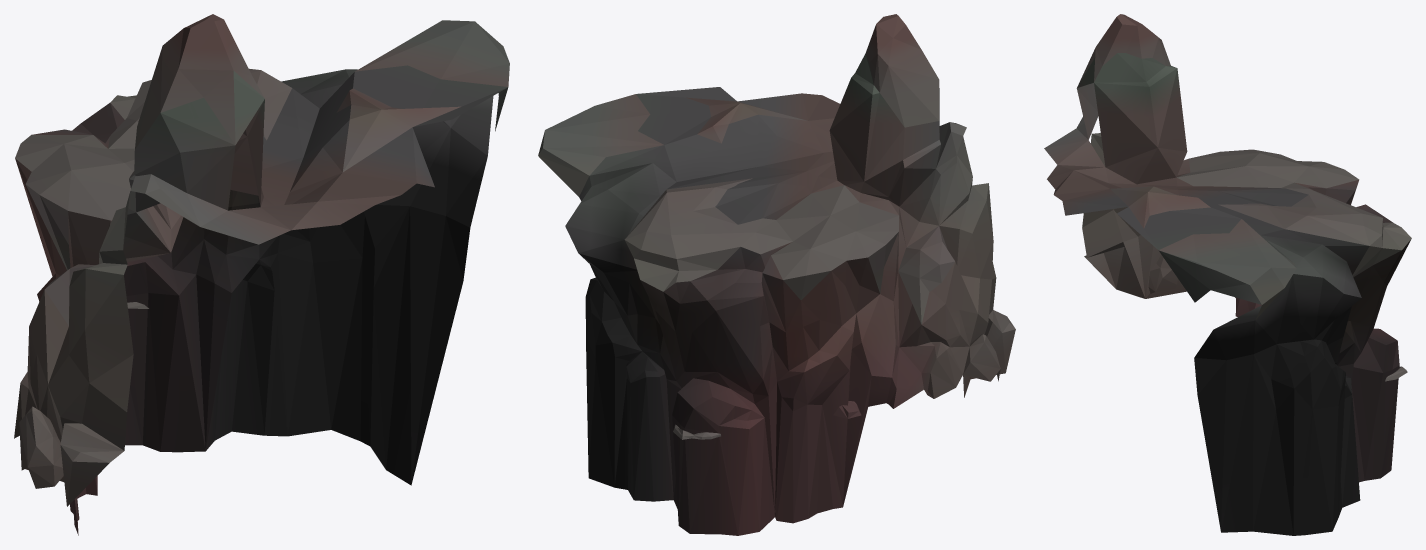
The model's file is Terrain_Volcano_2.fbx.
3 renders of one model, left to right at view 1: azimuth 30°, elevation 25°; view 2: azimuth 150°, elevation 25°; view 3: azimuth 270°, elevation 25°, orthographic. The views are drawn at different scales.
Visible parts, largest first — view 1: terrain_mountain_307_8; view 2: terrain_mountain_307_8; view 3: terrain_mountain_307_8.
Boxes of the visible parts, left/top/right/bottom form: terrain_mountain_307_8: left=14, top=14, right=509, bottom=535; terrain_mountain_307_8: left=538, top=14, right=1015, bottom=535; terrain_mountain_307_8: left=1044, top=14, right=1411, bottom=535.
Size of the model in its own units: 5134 by 5264 by 4145.
1 material, 1 textured.
